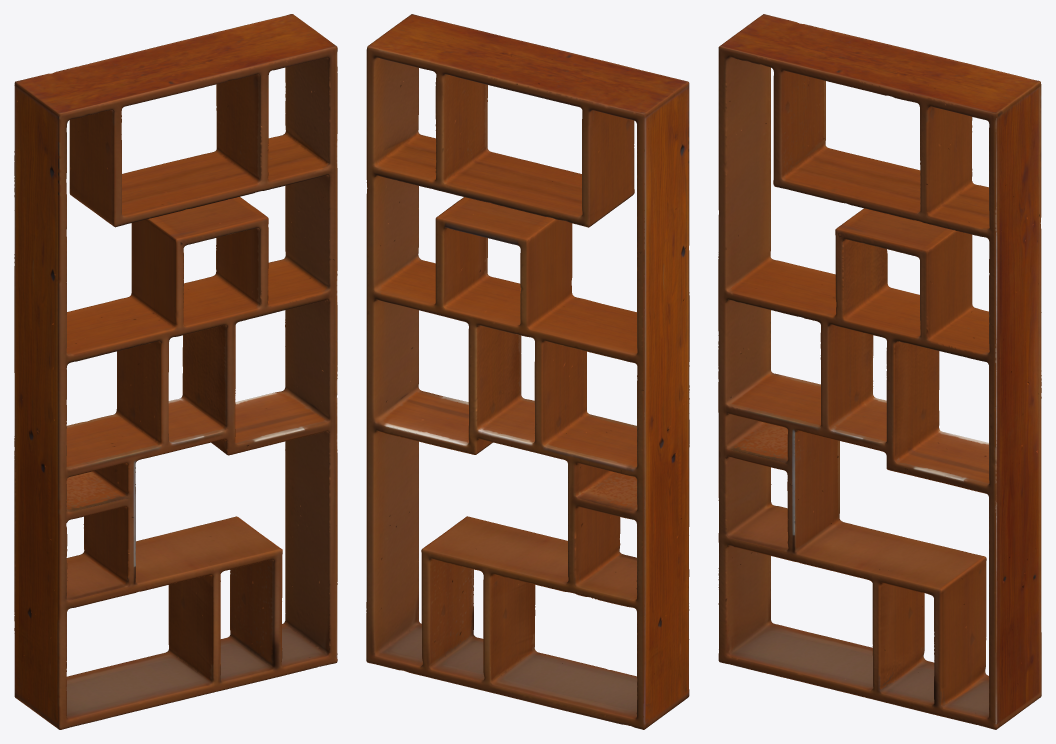
File: Geometric_Wooden_Book_Shelf.glb
The picture shows the model from 3 angles, left to right: view 1: azimuth 30°, elevation 25°; view 2: azimuth 150°, elevation 25°; view 3: azimuth 330°, elevation 25°; orthographic projection.
Bounding box in the file's own units: 0.9485 × 2 × 0.271.
Materials: 1 (1 with a texture image).
